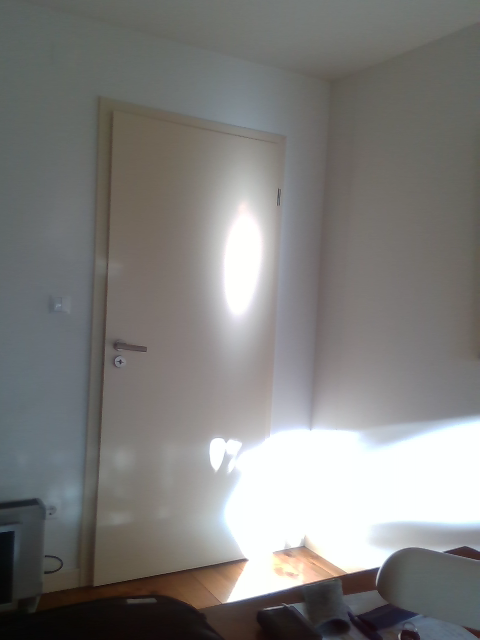closed: (78, 96, 288, 588)
